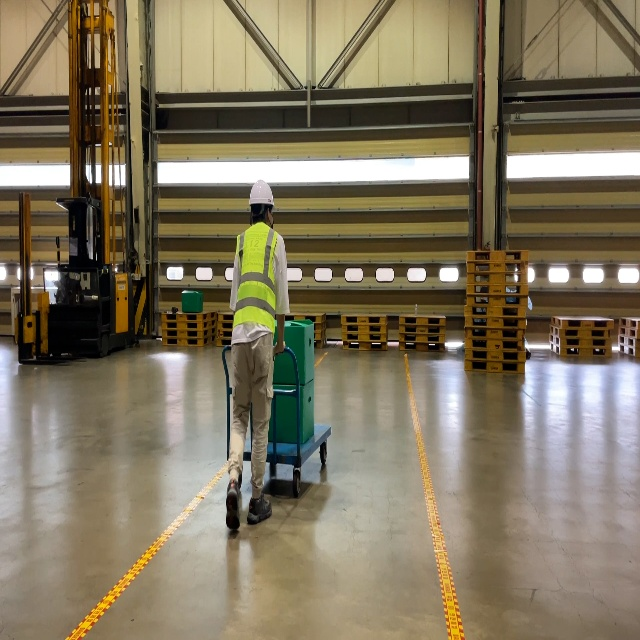Box: (268, 380, 315, 444), (273, 319, 314, 384)
Worker: (226, 182, 290, 530)
